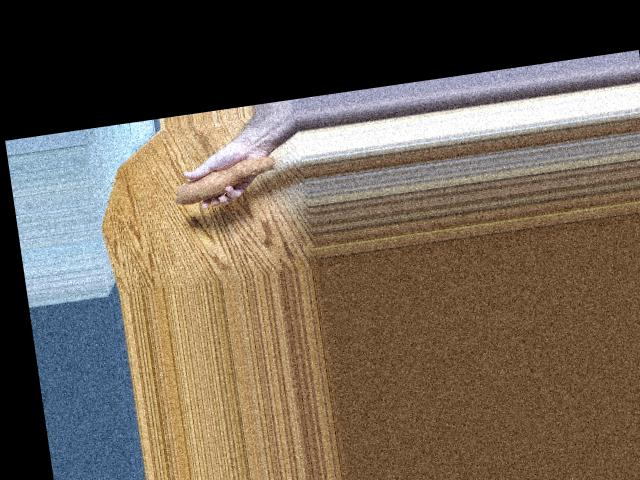sweet_potato: (168, 154, 276, 207)
